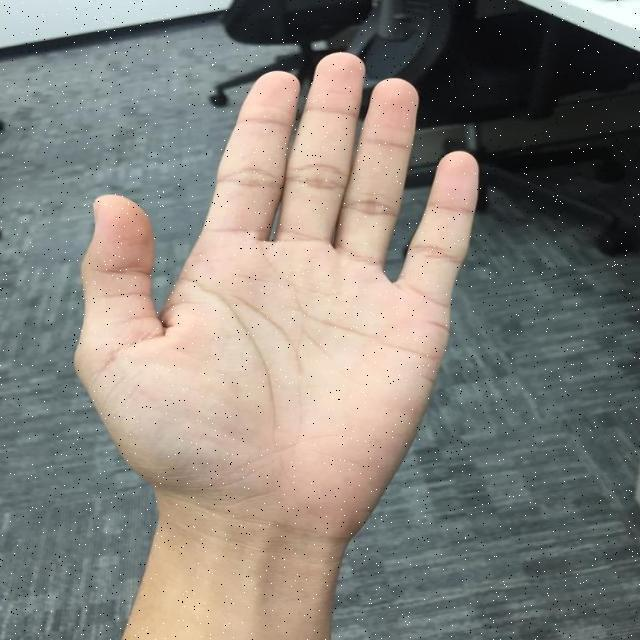hand: (71, 50, 483, 542)
